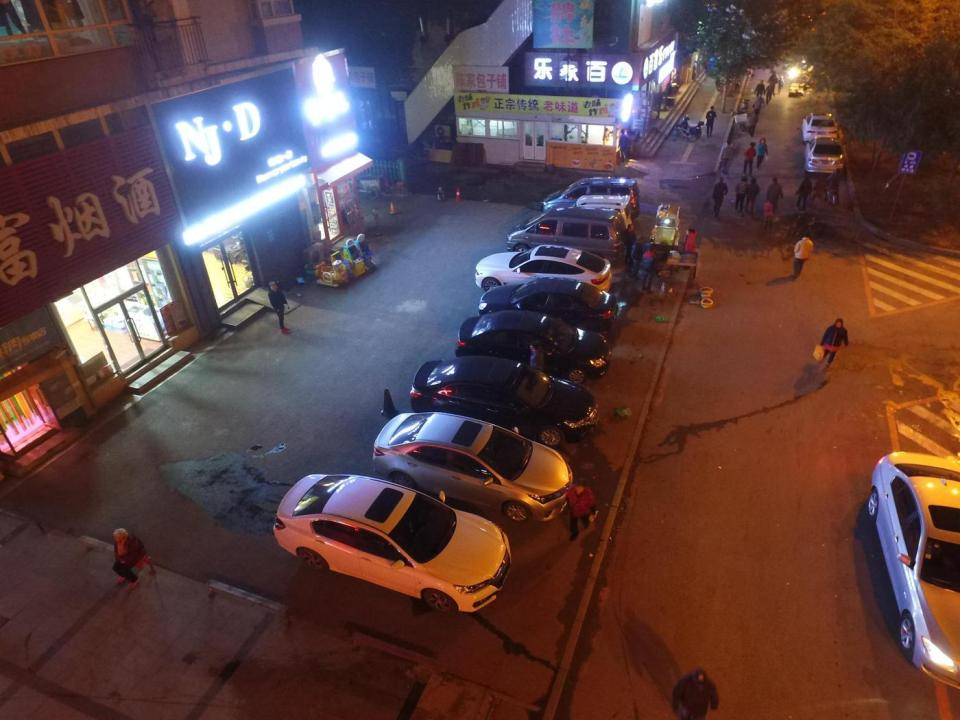car: (272, 474, 512, 613), (868, 451, 960, 693), (374, 411, 572, 522), (410, 357, 597, 449), (457, 309, 611, 383), (473, 244, 612, 303), (479, 276, 618, 330), (570, 193, 633, 231), (805, 137, 847, 175), (803, 110, 840, 147)
van: (508, 207, 621, 261), (542, 177, 639, 223)
